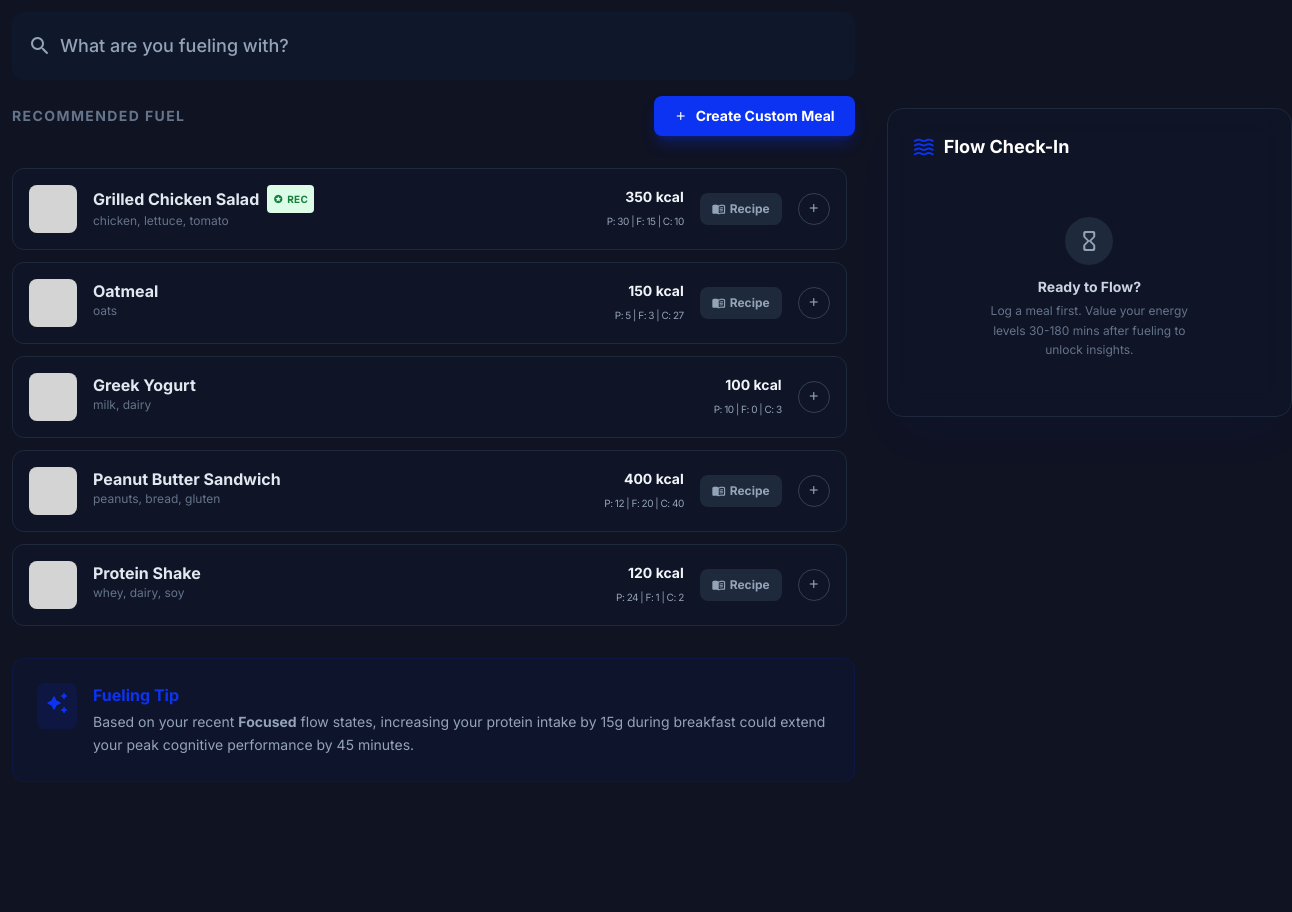
FoodLogger Component › Search Functionality › shows "No foods found" for invalid search
This screenshot has width=1292, height=912.
Type "XUEHUIAHOISHDA" into the field with placeholder "What are you fueling with?" at (433,46), box [12, 12, 855, 80]
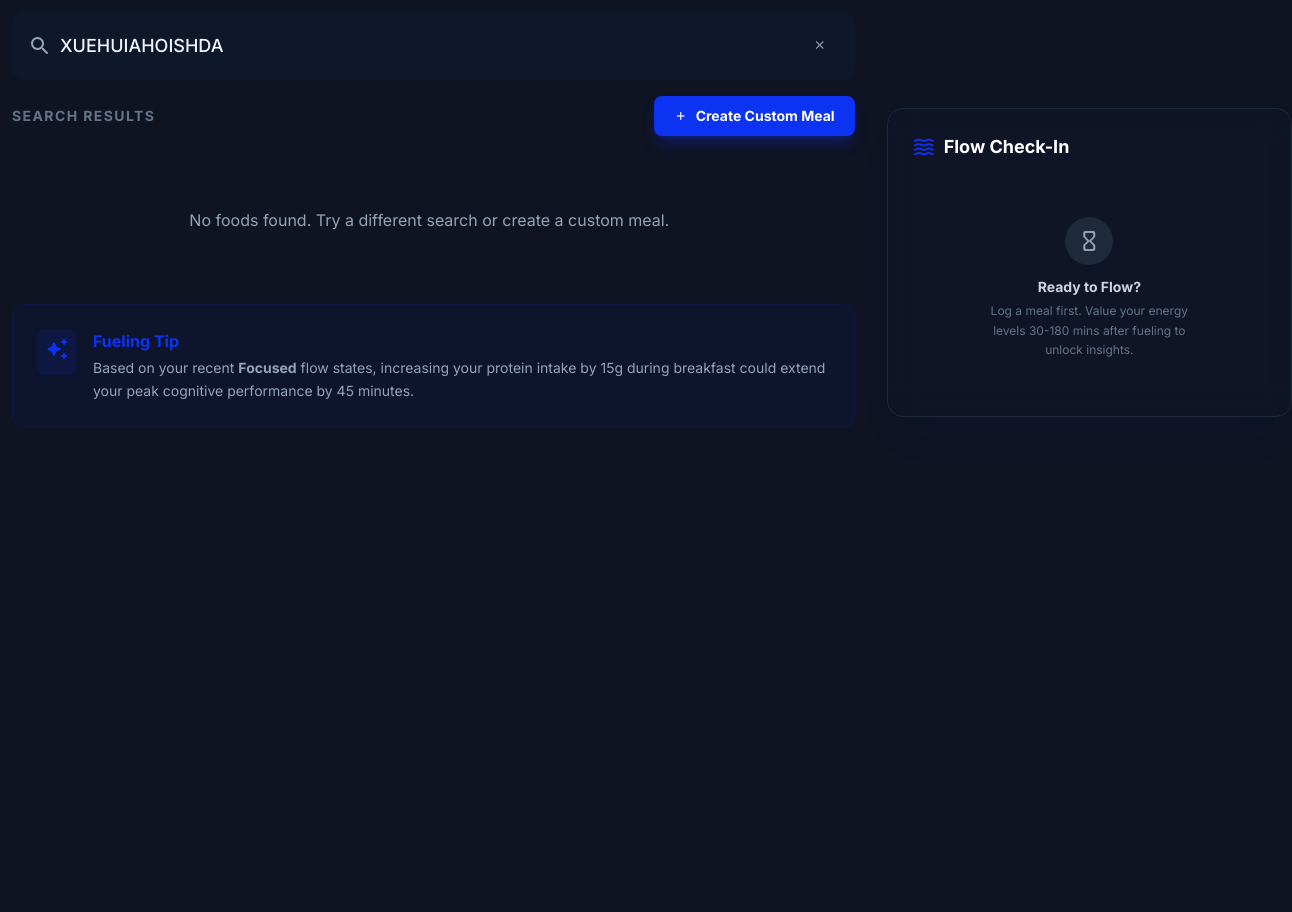
expect the text "No foods found" is shown: met, box [189, 210, 669, 230]
